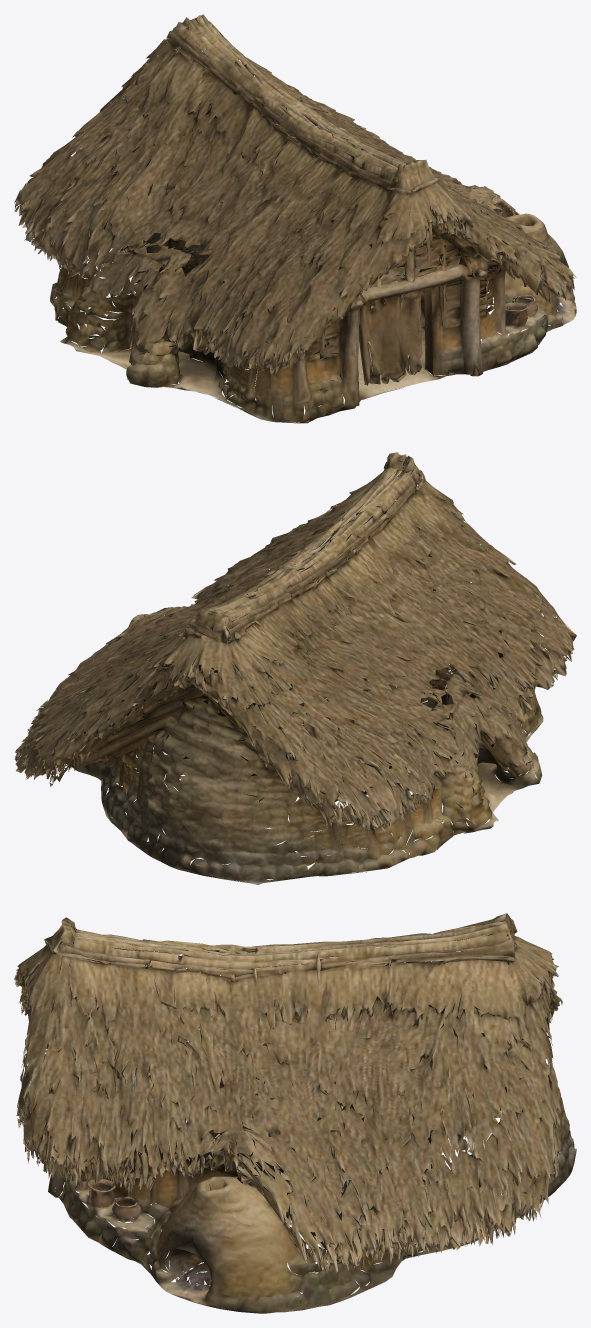
File: pottery_kiln_mid.glb
3 views of the same model, one above another, from view 1: azimuth 30°, elevation 25°; view 2: azimuth 150°, elevation 25°; view 3: azimuth 270°, elevation 25° (orthographic). The views are drawn at different scales.
Visible parts, largest first — view 1: model; view 2: model; view 3: model.
Part boxes in pixels (x1=…): model: x1=14, y1=14, x2=576, y2=423; model: x1=14, y1=452, x2=576, y2=884; model: x1=14, y1=913, x2=576, y2=1313.
Size of the model in its own units: 0.9944 by 0.5234 by 0.9872.
1 material, 1 textured.
